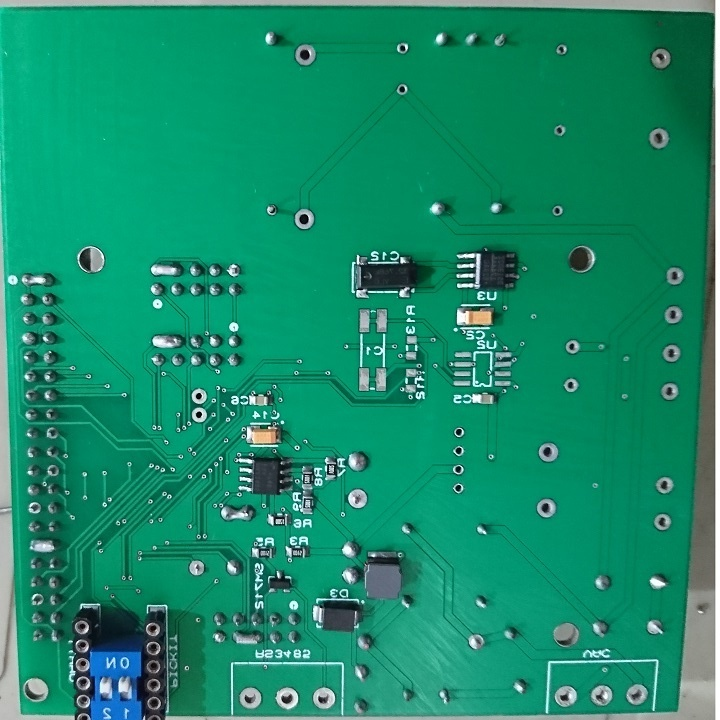F: (553, 683, 581, 712), (624, 680, 650, 709), (310, 686, 339, 712), (588, 682, 615, 709), (237, 684, 264, 711), (344, 484, 370, 512), (647, 125, 671, 155), (292, 206, 317, 234), (647, 46, 673, 72), (292, 43, 319, 68), (274, 685, 299, 711), (664, 263, 686, 291), (661, 304, 685, 329), (536, 442, 561, 465), (652, 472, 674, 498), (643, 616, 665, 641), (535, 496, 557, 520), (661, 340, 680, 367), (467, 632, 487, 655), (661, 379, 679, 404), (187, 557, 208, 578), (651, 512, 673, 532), (261, 200, 281, 221), (189, 386, 209, 406), (564, 339, 583, 360), (491, 33, 510, 51), (24, 500, 43, 518), (561, 378, 581, 395), (189, 409, 210, 425), (450, 480, 468, 498), (44, 463, 61, 482), (226, 263, 244, 280), (42, 426, 60, 443), (549, 203, 567, 219), (556, 43, 570, 62), (394, 40, 411, 55), (30, 592, 45, 609), (394, 83, 410, 98), (552, 125, 567, 141), (450, 444, 465, 459), (451, 426, 466, 441), (453, 464, 466, 479)
P: (218, 503, 257, 526), (147, 260, 186, 281), (149, 332, 187, 352), (26, 539, 64, 558), (22, 271, 57, 289), (233, 629, 264, 649)
